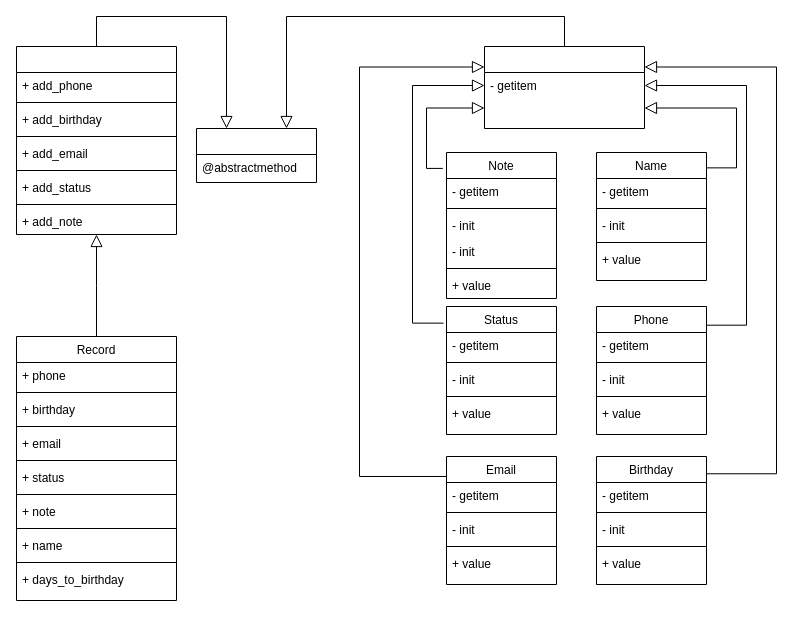
This 793x617 diagram has some shape labels left out. The shapes that lost their labels are listed below. From the top down, each one's box as (x1, y1, x2, y2) in pixels, then its label:
(484, 46, 644, 128): Field
(16, 46, 176, 234): AbstractRecord
(196, 128, 316, 182): ABC
